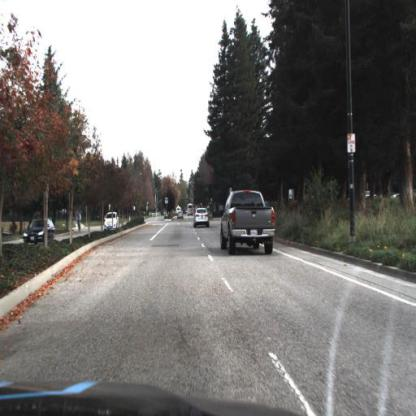biker: (74, 210, 85, 235)
car: (220, 189, 275, 257), (24, 217, 55, 244), (194, 207, 210, 232), (104, 212, 122, 233), (103, 212, 120, 233)
